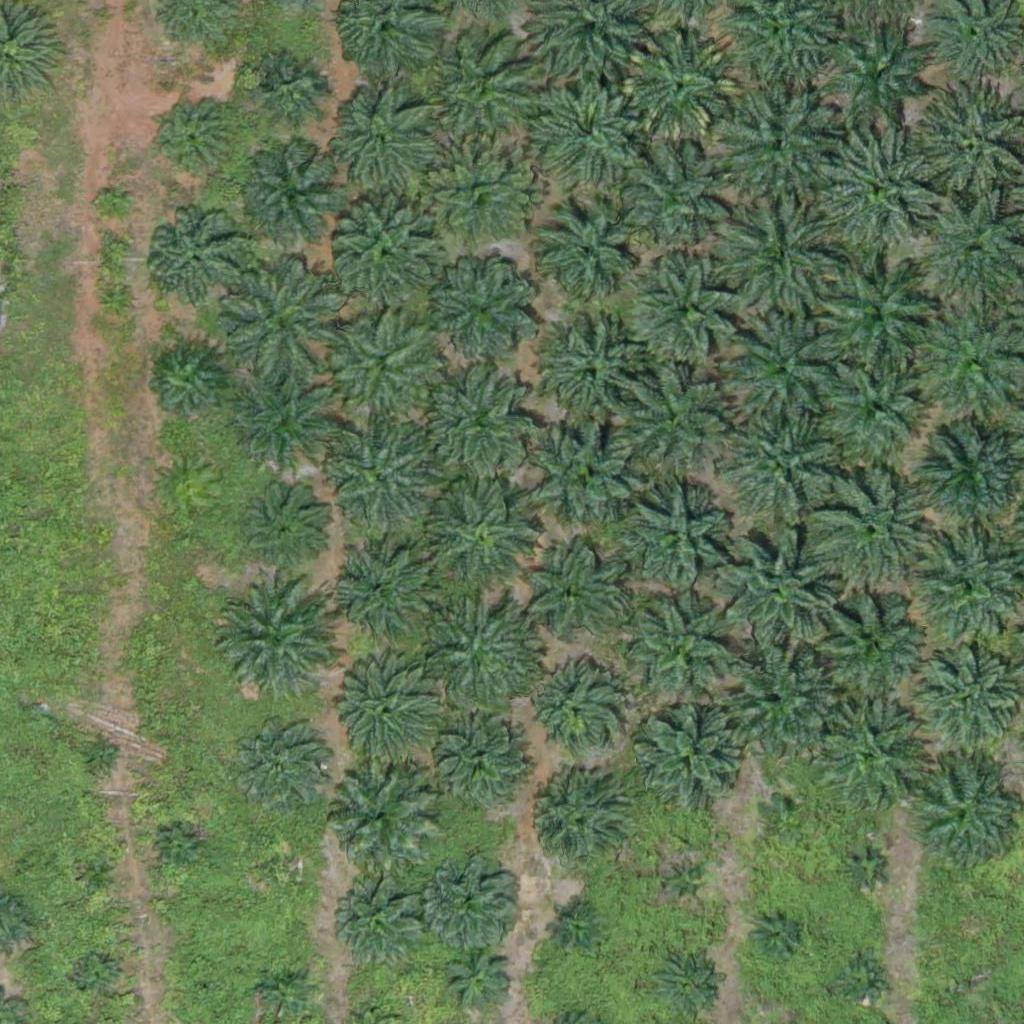Kelapa_Sawit: (810, 127, 935, 253), (716, 82, 841, 208), (706, 197, 831, 323), (216, 256, 341, 382), (209, 576, 334, 702), (619, 590, 744, 716), (722, 305, 847, 431), (720, 399, 845, 525), (715, 534, 840, 660), (715, 649, 840, 775), (812, 244, 937, 370), (816, 343, 941, 469), (812, 464, 937, 590), (802, 577, 927, 703), (421, 591, 546, 716), (904, 638, 1017, 752), (425, 32, 538, 145), (419, 138, 532, 251), (331, 199, 444, 312), (321, 83, 434, 196), (429, 249, 542, 362), (537, 319, 650, 432), (320, 759, 433, 872), (424, 364, 537, 477), (424, 477, 537, 590), (522, 415, 635, 528), (636, 705, 749, 818), (908, 757, 1021, 870), (616, 366, 728, 480), (624, 28, 736, 141), (623, 144, 735, 257), (530, 197, 642, 310), (530, 73, 642, 186), (631, 253, 743, 366), (329, 315, 441, 428), (230, 366, 342, 479), (325, 422, 437, 535), (327, 655, 439, 768), (618, 479, 730, 592), (815, 705, 927, 818), (241, 148, 341, 249), (230, 715, 330, 816), (333, 543, 433, 644), (431, 715, 531, 816), (521, 543, 621, 644), (523, 660, 623, 761), (521, 773, 621, 874), (426, 850, 526, 951), (828, 21, 928, 121), (145, 211, 245, 311), (152, 97, 240, 185), (242, 480, 329, 568), (339, 883, 426, 971), (151, 345, 226, 421), (253, 52, 328, 127), (656, 954, 718, 1017), (447, 945, 509, 1008), (751, 906, 801, 956), (840, 843, 890, 893), (836, 954, 886, 1004), (656, 858, 706, 908), (759, 789, 809, 839), (76, 954, 114, 992), (80, 856, 118, 894), (81, 737, 119, 775), (95, 188, 132, 226), (558, 912, 596, 949), (266, 850, 304, 887), (162, 830, 199, 868), (193, 980, 218, 1005)
